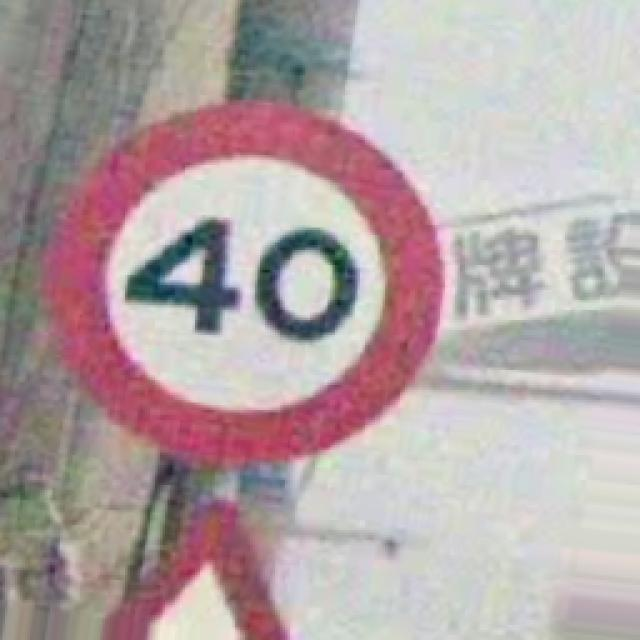Speed Limit -40-: (45, 102, 442, 465)
